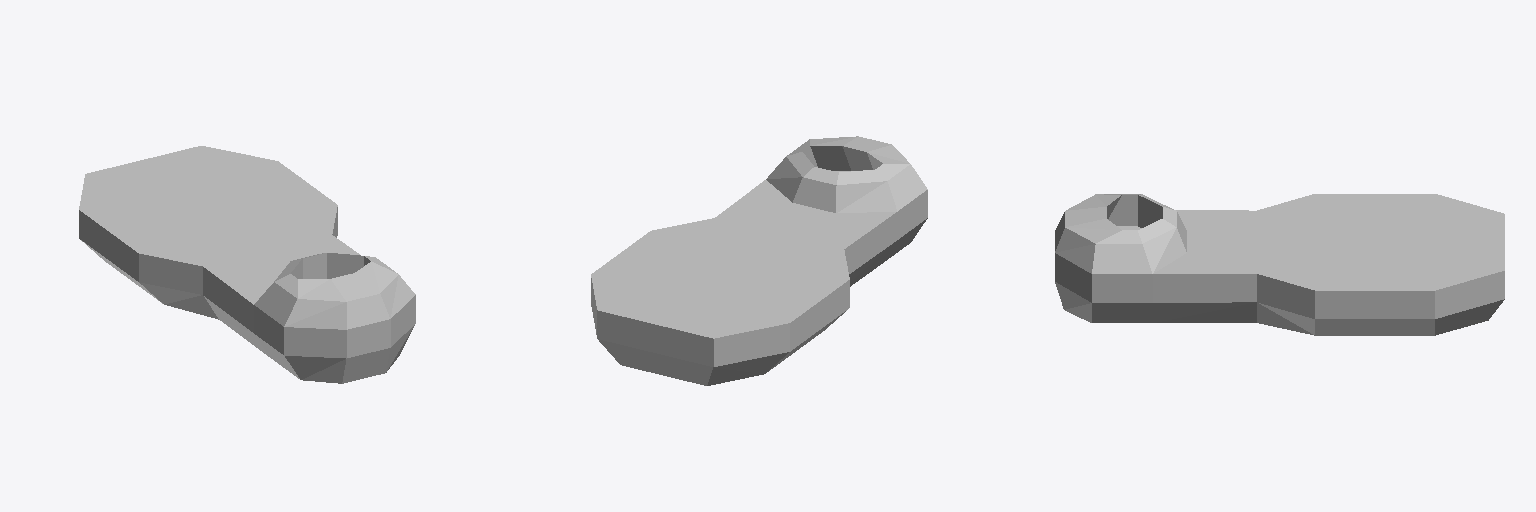
The model's file is CoyoteHull.obj.
The picture shows the model from 3 angles: view 1: azimuth 30°, elevation 25°; view 2: azimuth 150°, elevation 25°; view 3: azimuth 270°, elevation 25°; orthographic projection.
Parts seen in each view (by area): view 1: pCube1; view 2: pCube1; view 3: pCube1.
Boxes of the visible parts, <box> form: pCube1: <box>79,146,415,383</box>; pCube1: <box>591,136,927,385</box>; pCube1: <box>1055,194,1504,335</box>.
Size of the model in its own units: 7.77 by 3.24 by 15.22.